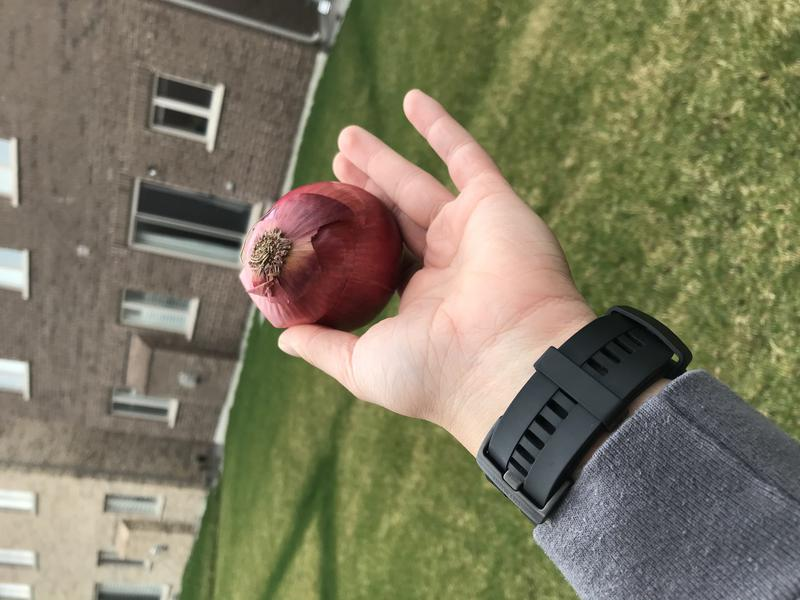purple_onion: (228, 174, 418, 341)
